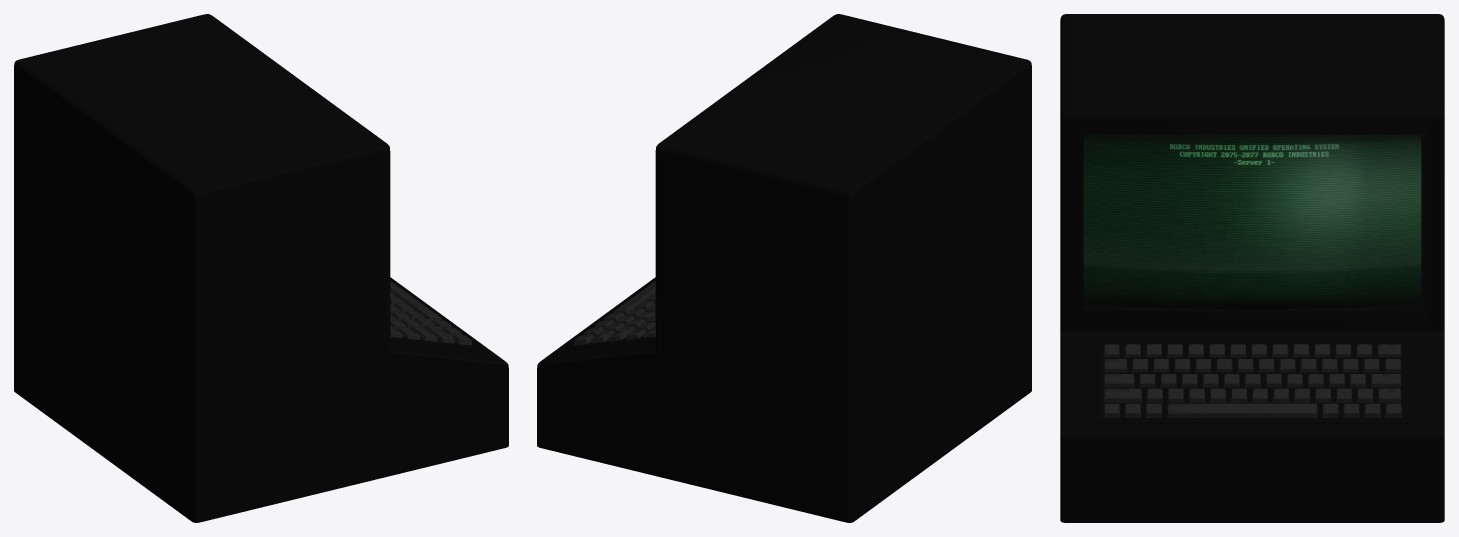
Rendered from LolzComputer.fbx.
The picture shows the model from 3 angles, left to right: view 1: azimuth 30°, elevation 25°; view 2: azimuth 150°, elevation 25°; view 3: azimuth 270°, elevation 25°; orthographic projection. The views are drawn at different scales.
Visible parts, largest first — view 1: Computer; view 2: Computer; view 3: Computer.
Boxes of the visible parts, x1=… form: Computer: x1=14, y1=14, x2=508, y2=522; Computer: x1=537, y1=14, x2=1031, y2=522; Computer: x1=1060, y1=14, x2=1444, y2=522.
Size of the model in its own units: 200 by 200 by 200.
